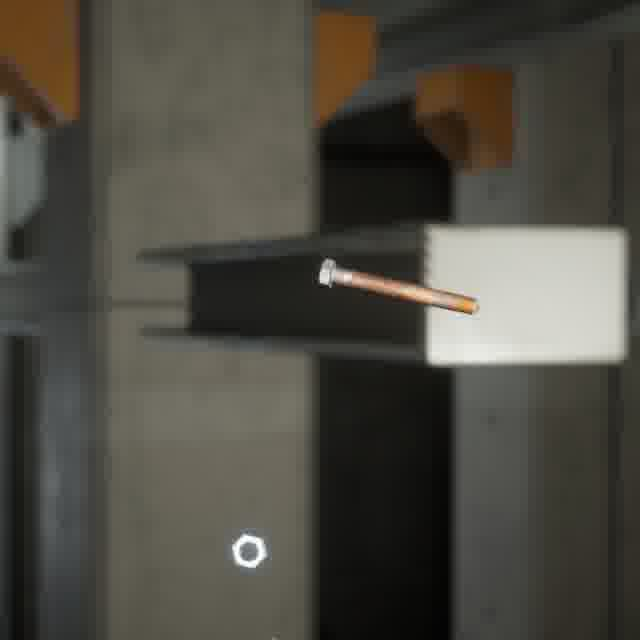bolt: (314, 254, 483, 319)
nut: (226, 528, 271, 573)
